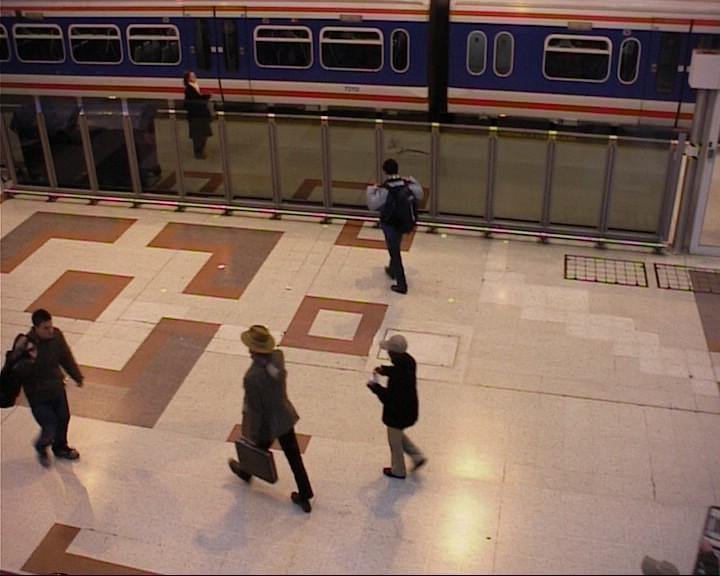person: (220, 319, 317, 514), (0, 305, 85, 468), (364, 330, 432, 485), (360, 152, 428, 296), (175, 67, 223, 162)
